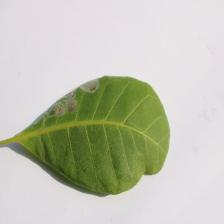leaf miner: (33, 79, 104, 124)
